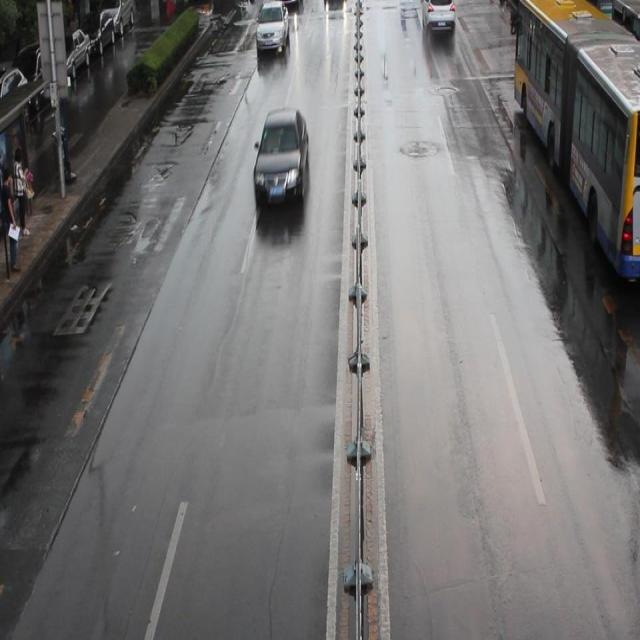car: (252, 109, 308, 215), (254, 1, 289, 56), (421, 1, 456, 36)
van: (513, 1, 640, 278)
